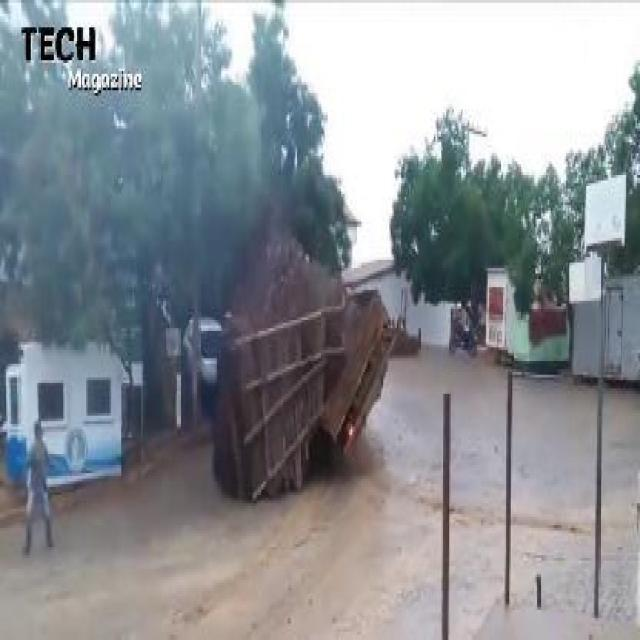accident: (205, 216, 392, 495)
